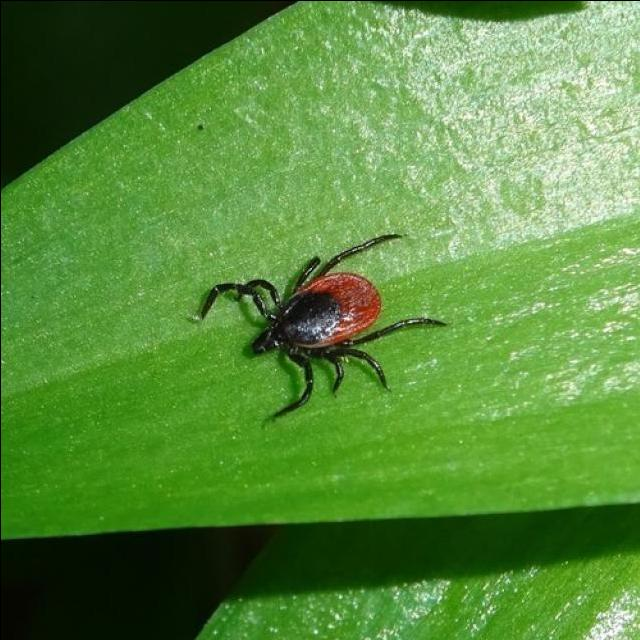Ixodes Ricinus-F: (195, 234, 447, 421)
